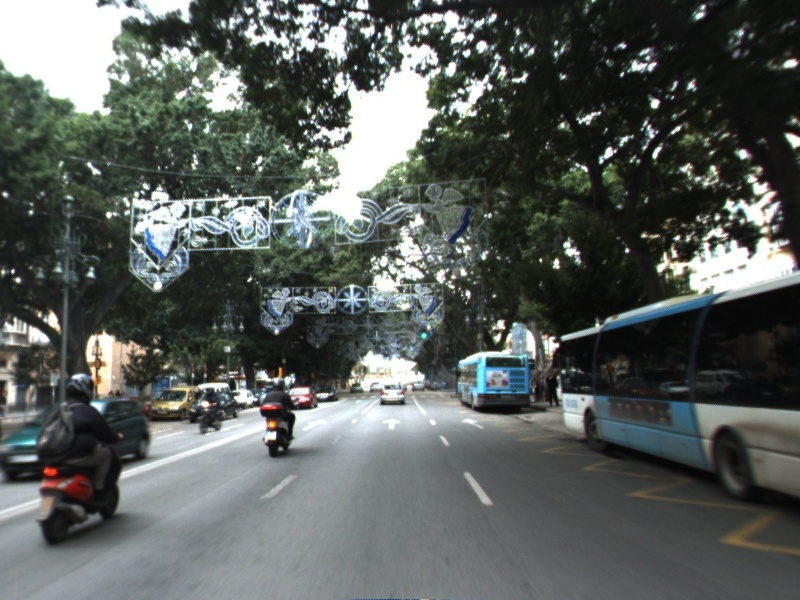STRAIGHT: (299, 416, 329, 432), (459, 416, 488, 431), (380, 416, 404, 431)
